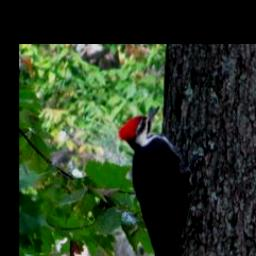Woodpecker: (115, 104, 203, 256)
